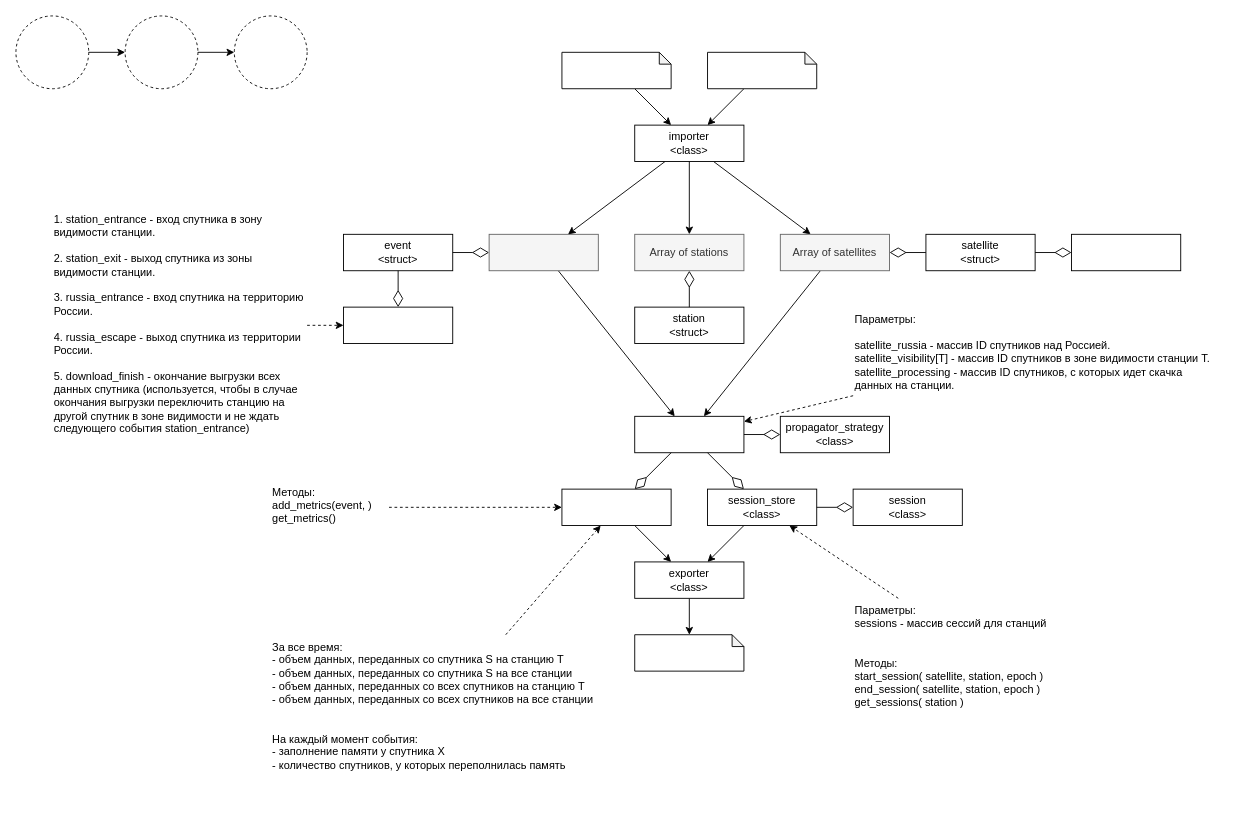
Image size: 1233x814. Some labels were removed from this diagram. The shapes that lost their labels are listed below. From the top down, each one's centre as x and y in pixels, then its label:
point 543,252: Array of events
point 1126,252: satellite_parameters <struct>
point 398,325: event_type <enum>
point 689,434: propagator <class>
point 616,507: metrics <class>
